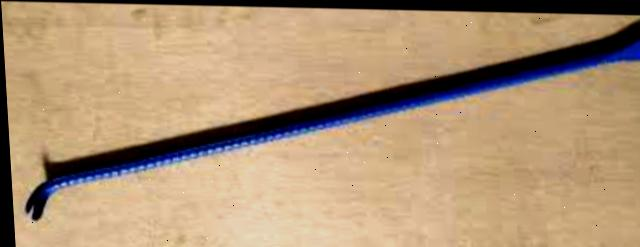crow bar: (11, 18, 640, 236)
